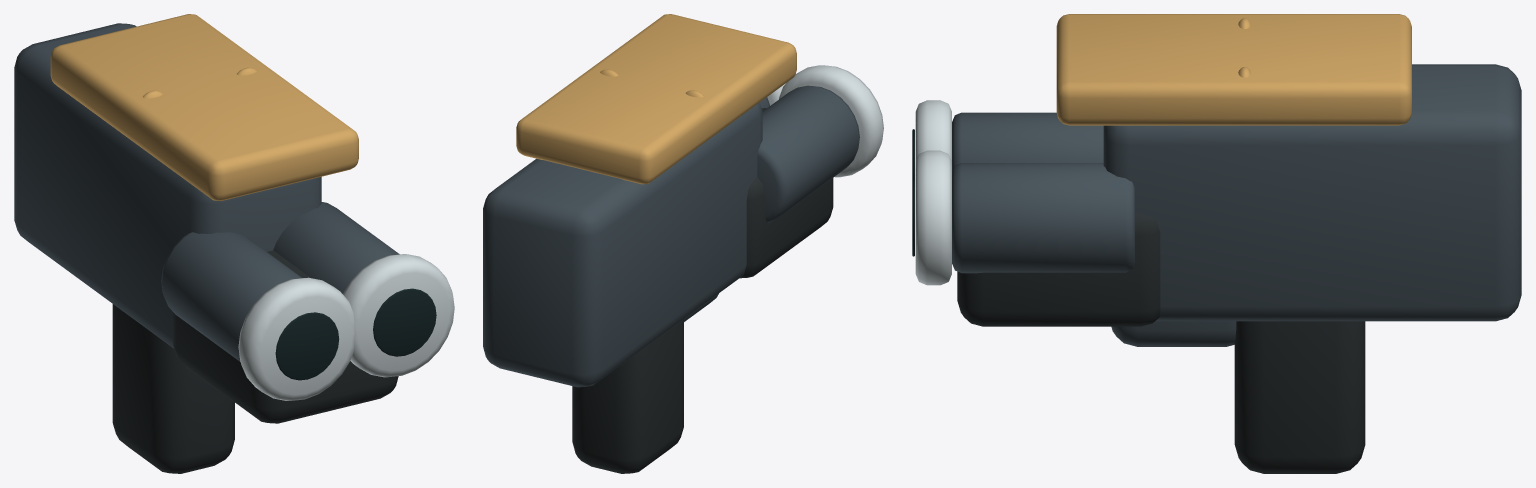
The model's file is shotgun_wide.t3.glb.
The picture shows the model from 3 angles, left to right: view 1: azimuth 30°, elevation 25°; view 2: azimuth 150°, elevation 25°; view 3: azimuth 270°, elevation 25°; orthographic projection. The views are drawn at different scales.
Visible parts, largest first — view 1: weapon_right__forged_bluelead_steel__protected, weapon_right__worn_warm_brass__protected, weapon_right__charcoal_rubber__protected, weapon_right__honed_steel_edge__protected, weapon_right__eye_socket__protected; view 2: weapon_right__forged_bluelead_steel__protected, weapon_right__worn_warm_brass__protected, weapon_right__charcoal_rubber__protected, weapon_right__honed_steel_edge__protected; view 3: weapon_right__forged_bluelead_steel__protected, weapon_right__worn_warm_brass__protected, weapon_right__charcoal_rubber__protected, weapon_right__honed_steel_edge__protected.
Boxes of the visible parts, left/top/right/bottom form: weapon_right__forged_bluelead_steel__protected: left=14, top=23, right=399, bottom=361; weapon_right__worn_warm_brass__protected: left=50, top=14, right=358, bottom=200; weapon_right__charcoal_rubber__protected: left=112, top=250, right=398, bottom=473; weapon_right__honed_steel_edge__protected: left=238, top=254, right=454, bottom=400; weapon_right__eye_socket__protected: left=275, top=288, right=436, bottom=380; weapon_right__forged_bluelead_steel__protected: left=483, top=85, right=859, bottom=387; weapon_right__worn_warm_brass__protected: left=516, top=14, right=796, bottom=184; weapon_right__charcoal_rubber__protected: left=572, top=108, right=833, bottom=473; weapon_right__honed_steel_edge__protected: left=767, top=65, right=883, bottom=177; weapon_right__forged_bluelead_steel__protected: left=952, top=64, right=1521, bottom=346; weapon_right__worn_warm_brass__protected: left=1056, top=14, right=1411, bottom=125; weapon_right__charcoal_rubber__protected: left=957, top=213, right=1365, bottom=473; weapon_right__honed_steel_edge__protected: left=915, top=100, right=951, bottom=285.
Bounding box in the file's own units: 0.2433 × 0.442 × 0.583.
